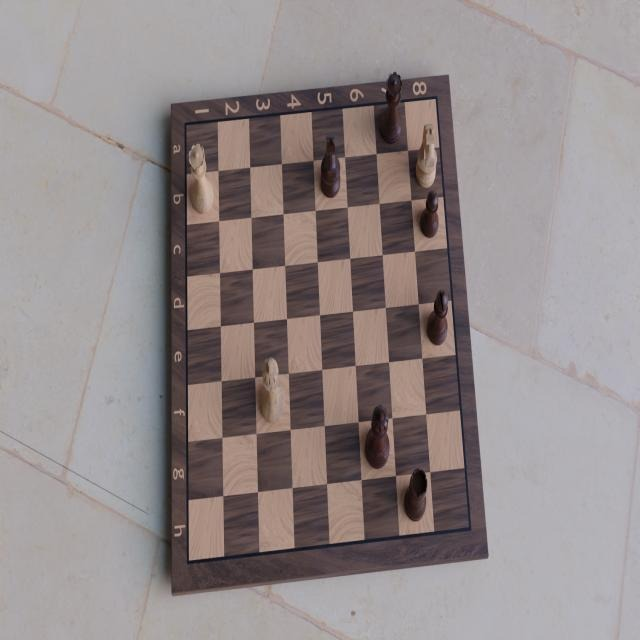black-bishop: (426, 287, 450, 349)
black-king: (365, 400, 391, 471)
black-knight: (317, 131, 342, 201)
black-pawn: (421, 187, 443, 244)
black-queen: (379, 72, 405, 148)
black-rook: (403, 466, 429, 526)
white-king: (258, 354, 286, 426)
white-knight: (415, 122, 440, 190)
white-queen: (189, 141, 217, 215)
